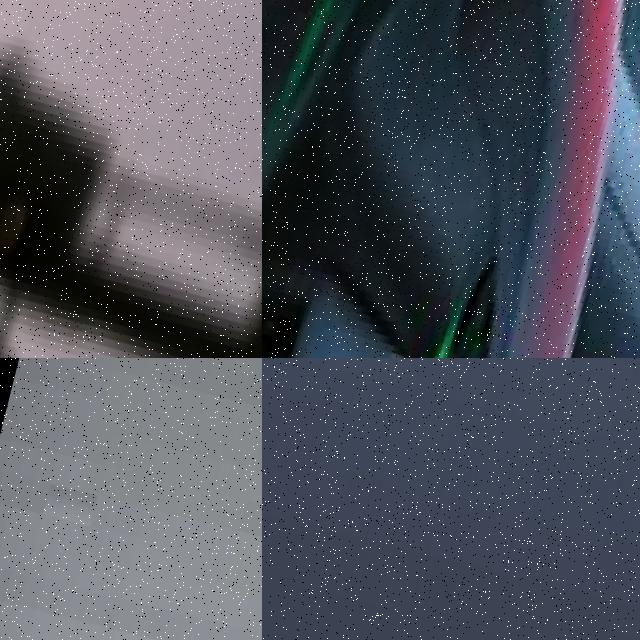drone: (262, 0, 640, 358), (0, 0, 262, 358)
